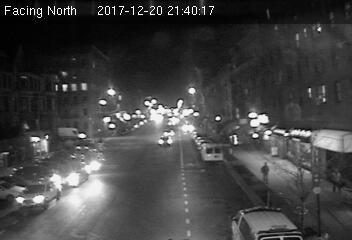car: (14, 178, 60, 210), (53, 160, 92, 185), (82, 152, 106, 170), (157, 135, 173, 146)
pedestrian: (262, 160, 270, 186)
police: (230, 204, 313, 240)
truck: (201, 144, 223, 164)
